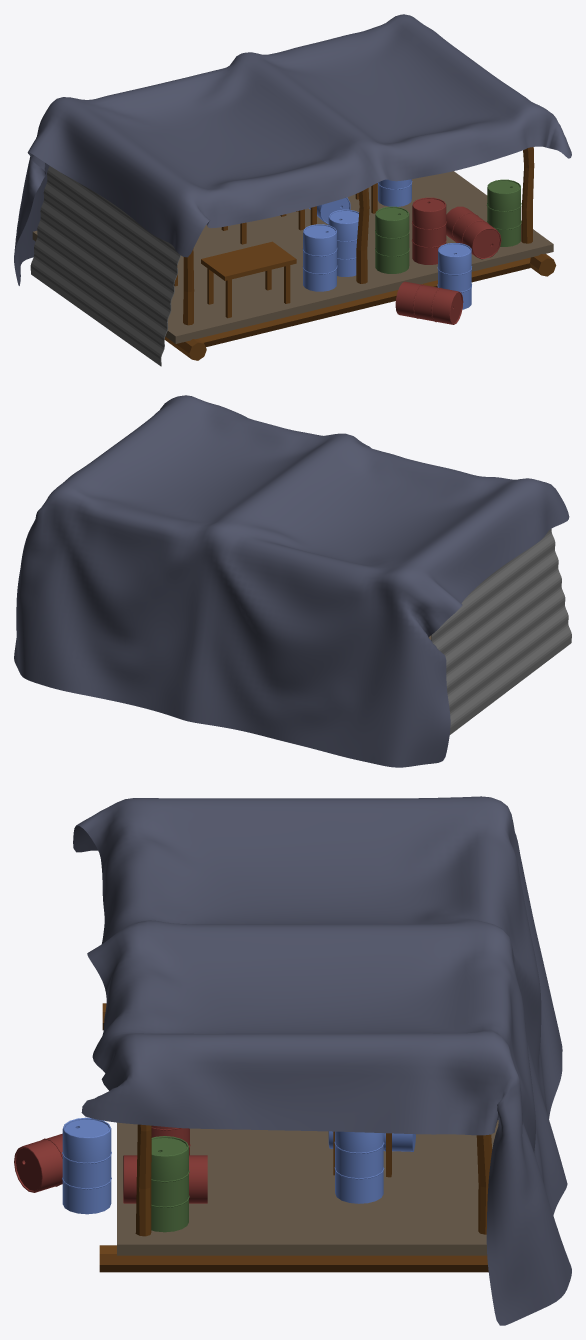
File: Lab.fbx
3 renders of one model, top to bottom at view 1: azimuth 30°, elevation 25°; view 2: azimuth 150°, elevation 25°; view 3: azimuth 270°, elevation 25°, orthographic. The views are drawn at different scales.
Parts seen in each view (by area): view 1: Plane, Lab, Plane.001, Table.001, Cylinder.002, Cylinder.008, Cylinder.001, Cylinder.003, Cylinder.006, Cylinder.004, Cylinder.007, Cylinder.005 (+2 smaller); view 2: Plane, Plane.001; view 3: Plane, Lab, Cylinder.007, Cylinder.006, Cylinder.009, Cylinder.008, Cylinder.004.
Part boxes in pixels (box(x1,y1,x2,y2)): Plane: box(14, 14, 571, 285); Lab: box(32, 147, 556, 360); Plane.001: box(30, 166, 180, 366); Table.001: box(201, 241, 296, 318); Cylinder.002: box(375, 206, 409, 273); Cylinder.008: box(395, 281, 463, 324); Cylinder.001: box(302, 224, 337, 291); Cylinder.003: box(412, 197, 446, 264); Cylinder.006: box(486, 179, 521, 246); Cylinder.004: box(446, 206, 501, 259); Cylinder.007: box(437, 243, 472, 309); Cylinder.005: box(328, 209, 358, 276); Plane: box(14, 395, 569, 767); Plane.001: box(431, 528, 571, 734); Plane: box(73, 796, 571, 1325); Lab: box(99, 1003, 498, 1272); Cylinder.007: box(62, 1117, 111, 1214); Cylinder.006: box(151, 1136, 189, 1232); Cylinder.009: box(334, 1131, 384, 1203); Cylinder.008: box(14, 1133, 62, 1192); Cylinder.004: box(123, 1155, 207, 1203).
Size of the model in its own units: 189 by 75.73 by 147.
